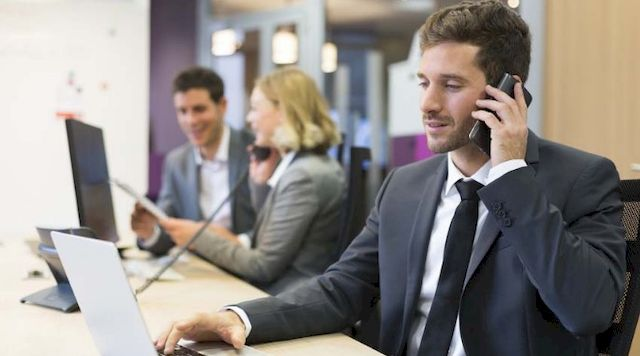phone: (474, 69, 531, 159)
talk: (417, 67, 534, 167)
